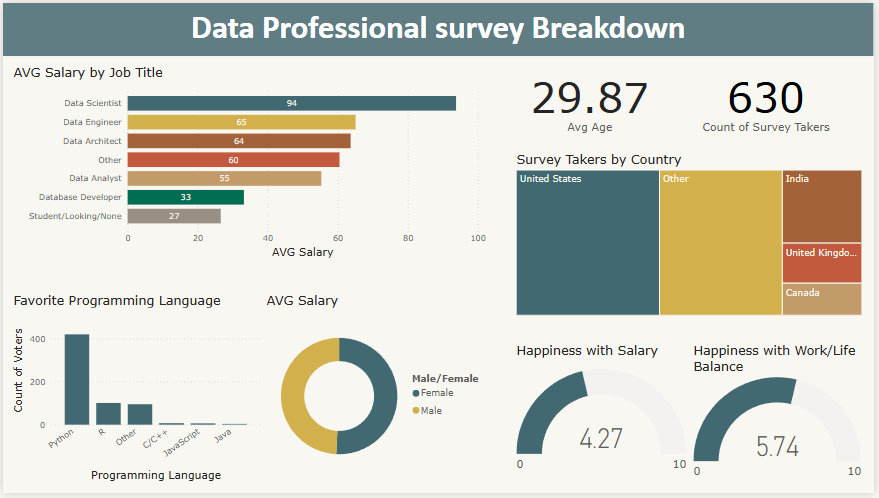

The page's visual inventory and layout, read from the dashboard file:
{"tool":"powerbi","page":{"name":"Page 1","canvas":[1280,720],"ordinal":0},"visuals":[{"type":"textbox","box":[0,0,1280,78.3],"z":0},{"type":"card","fields":{"Values":["Count(Data Professional Survey.Unique ID)"]},"box":[976.8,89.9,291.3,110.1],"z":1000},{"type":"card","fields":{"Values":["Avg(Data Professional Survey.Q10 - Current Age)"]},"box":[750.7,89.9,226.1,110.1],"z":2000},{"type":"barChart","title":"AVG Salary by Job Title","fields":{"Category":["Data Professional Survey.Q1 - Which Title Best Fits your Current Role?.1"],"Y":["Avg(Data Professional Survey.AVG Salary)"],"Series":["Data Professional Survey.Q1 - Which Title Best Fits your Current Role?.1"]},"box":[10,90,705,290],"z":3000},{"type":"columnChart","title":"Favorite Programming Language","fields":{"Category":["Data Professional Survey.Q5 - Favorite Programming Language.1"],"Y":["CountNonNull(Data Professional Survey.Unique ID)"]},"box":[10,425,373.3,283.3],"z":4000},{"type":"treemap","fields":{"Group":["Data Professional Survey.Q11 - Which Country do you live in?.1"],"Values":["CountNonNull(Data Professional Survey.Q11 - Which Country do you live in?.1)"]},"box":[750,218.3,518.3,246.7],"z":5000},{"type":"gauge","title":"Happiness with Work/Life Balance","fields":{"Y":["Avg(Data Professional Survey.Q6 - How Happy are you in your Current Position with the following? (Work/Life Balance))"],"MinValue":["Min(Data Professional Survey.Q6 - How Happy are you in your Current Position with the following? (Work/Life Balance))1"],"MaxValue":["Max(Data Professional Survey.Q6 - How Happy are you in your Current Position with the following? (Work/Life Balance))2"]},"box":[1010,498.3,256.7,210],"z":6000},{"type":"gauge","title":"Happiness with Salary","fields":{"Y":["Avg(Data Professional Survey.Q6 - How Happy are you in your Current Position with the following? (Salary))"],"MinValue":["Min(Data Professional Survey.Q6 - How Happy are you in your Current Position with the following? (Salary))1"],"MaxValue":["Max(Data Professional Survey.Q6 - How Happy are you in your Current Position with the following? (Salary))2"]},"box":[750,498.3,260,210],"z":7000},{"type":"donutChart","title":"AVG Salary ","fields":{"Y":["Avg(Data Professional Survey.AVG Salary)"],"Category":["Data Professional Survey.Q9 - Male/Female?"]},"box":[383,425,331,283],"z":8000}]}

Visuals, with their boxes in screenshot pixels (x1, y1, x2, y2), scaled from the page's 1280x720 canvas onto the 879x498 screenshot:
textbox: bbox(0, 0, 878, 54)
card - Count(Data Professional Survey.Unique ID): bbox(671, 62, 871, 138)
card - Avg(Data Professional Survey.Q10 - Current Age): bbox(516, 62, 671, 138)
"AVG Salary by Job Title" barChart: bbox(7, 62, 491, 263)
"Favorite Programming Language" columnChart: bbox(7, 294, 263, 490)
treemap - Data Professional Survey.Q11 - Which Country do you live in?.1 x CountNonNull(Data Professional Survey.Q11 - Which Country do you live in?.1): bbox(515, 151, 871, 322)
"Happiness with Work/Life Balance" gauge: bbox(694, 345, 870, 490)
"Happiness with Salary" gauge: bbox(515, 345, 694, 490)
"AVG Salary " donutChart: bbox(263, 294, 490, 490)
